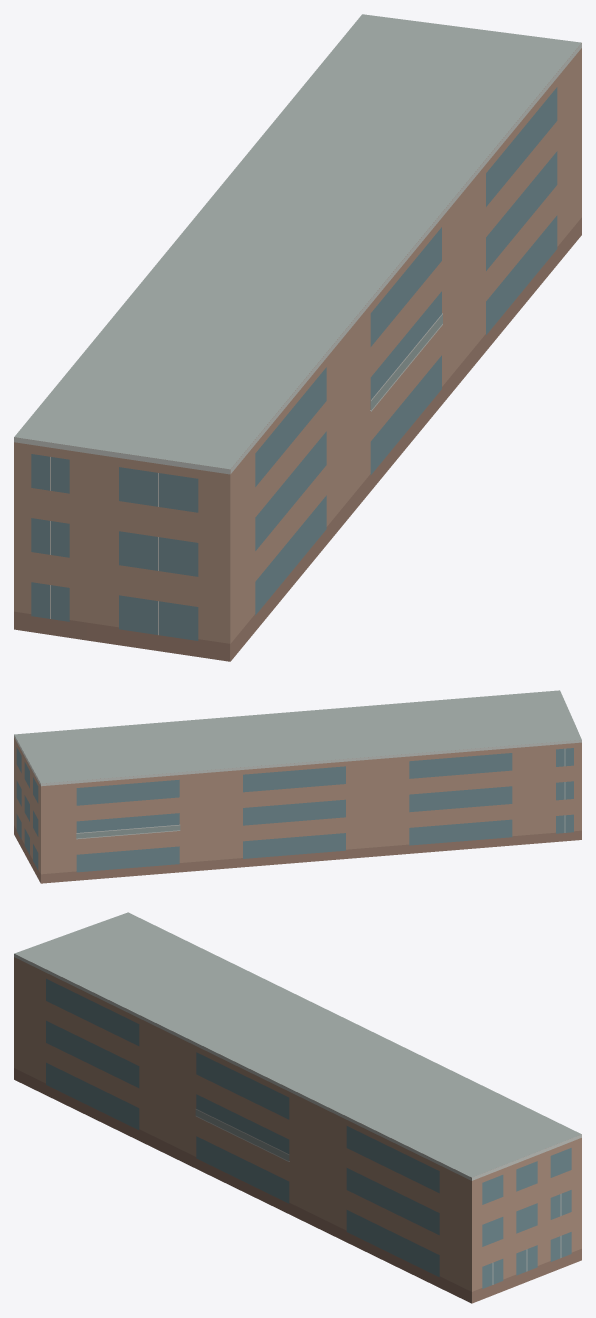
Rendered from survey-upis-32627324.glb.
The picture shows the model from 3 angles, top to bottom: view 1: azimuth 30°, elevation 25°; view 2: azimuth 150°, elevation 25°; view 3: azimuth 270°, elevation 25°; orthographic projection. The views are drawn at different scales.
Parts seen in each view (by area): view 1: survey-upis-32627324.tmp; view 2: survey-upis-32627324.tmp; view 3: survey-upis-32627324.tmp.
Boxes of the visible parts, x1,y1,x2,y2 form: survey-upis-32627324.tmp: (14,14,581,661); survey-upis-32627324.tmp: (14,690,581,883); survey-upis-32627324.tmp: (14,912,581,1303).
Size of the model in its own units: 41.32 by 9.15 by 37.38.
